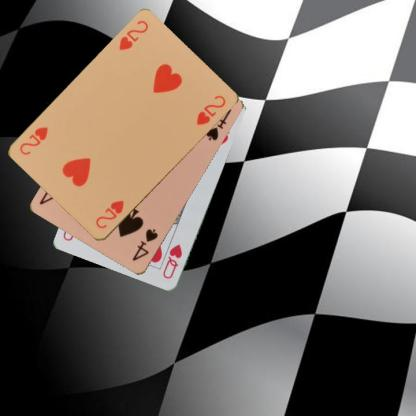2h: (116, 18, 150, 52), (93, 198, 125, 231)
4s: (130, 226, 160, 263)
Qh: (160, 241, 184, 281)
